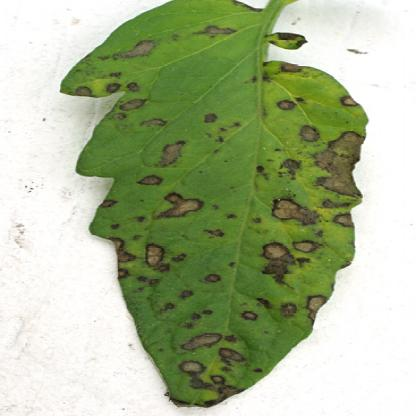Tomato Septoria leaf spot: (46, 6, 376, 406)
